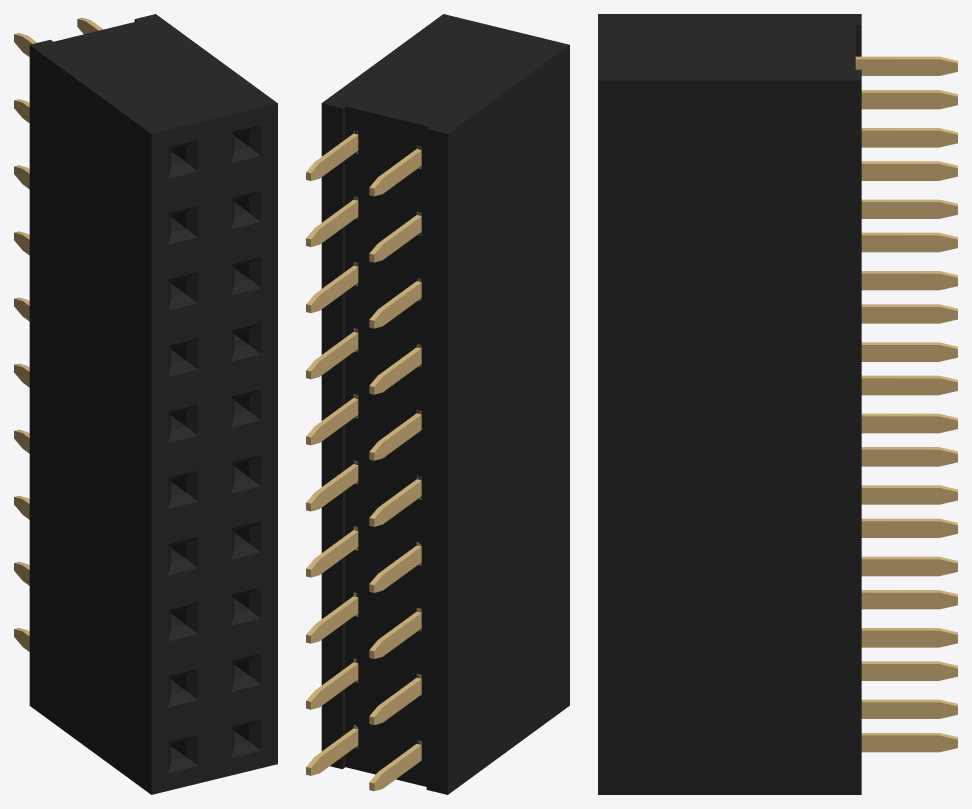
File: socket-2x10.glb
3 renders of one model, left to right at view 1: azimuth 30°, elevation 25°; view 2: azimuth 150°, elevation 25°; view 3: azimuth 270°, elevation 25°, orthographic. The views are drawn at different scales.
Parts seen in each view (by area): view 1: IC-BODY-EPOXY-04, PIN-02; view 2: IC-BODY-EPOXY-04, PIN-02 (×13); view 3: IC-BODY-EPOXY-04, PIN-02 (×13).
Boxes of the visible parts, x1,y1,x2,y2 form: IC-BODY-EPOXY-04: (29, 14, 277, 794); PIN-02: (14, 17, 103, 635); IC-BODY-EPOXY-04: (321, 14, 569, 794); PIN-02 (×13): (306, 130, 421, 790); IC-BODY-EPOXY-04: (598, 14, 861, 794); PIN-02 (×13): (855, 56, 957, 752).
Bounding box in the file's own units: 5.08 × 25.4 × 11.6.
